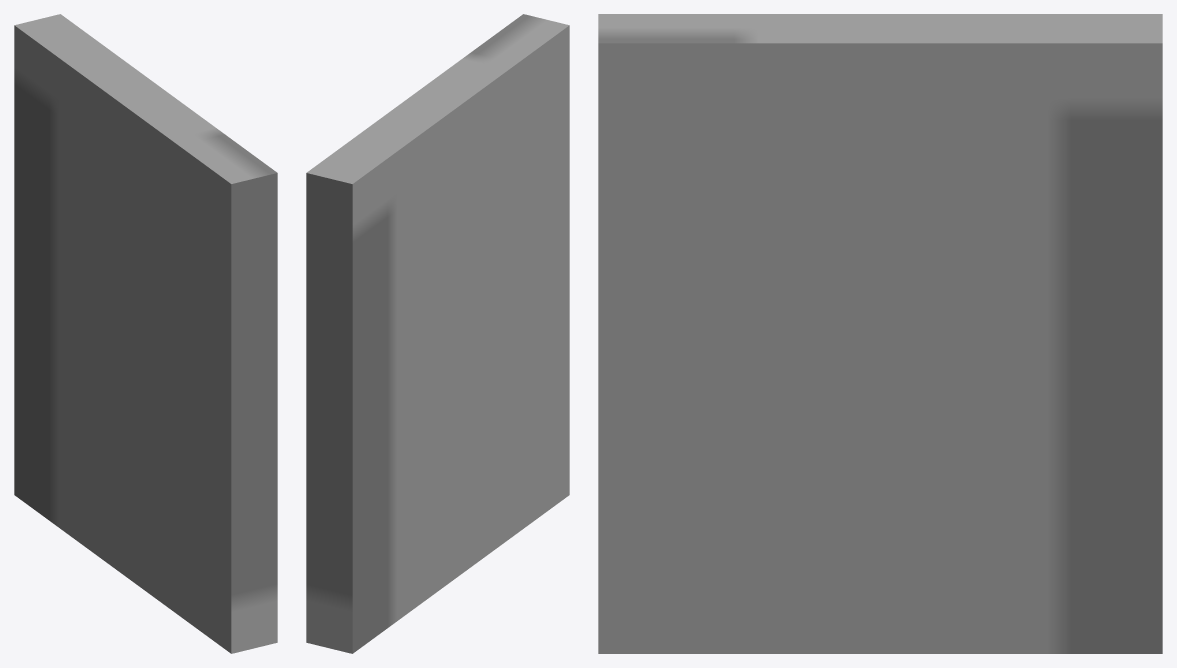
File: Spawnwall_MapB.fbx
The picture shows the model from 3 angles, left to right: view 1: azimuth 30°, elevation 25°; view 2: azimuth 150°, elevation 25°; view 3: azimuth 270°, elevation 25°; orthographic projection. The views are drawn at different scales.
Visible parts, largest first — view 1: Spawnwall_MapB; view 2: Spawnwall_MapB; view 3: Spawnwall_MapB.
Boxes of the visible parts, left/top/right/bottom form: Spawnwall_MapB: left=14, top=14, right=277, bottom=653; Spawnwall_MapB: left=306, top=14, right=569, bottom=653; Spawnwall_MapB: left=598, top=14, right=1162, bottom=653.
Bounding box in the file's own units: 222 × 2156 × 1806.
